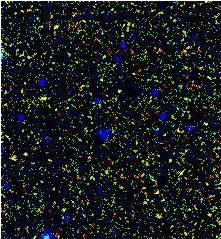star: (0, 144, 27, 174)
